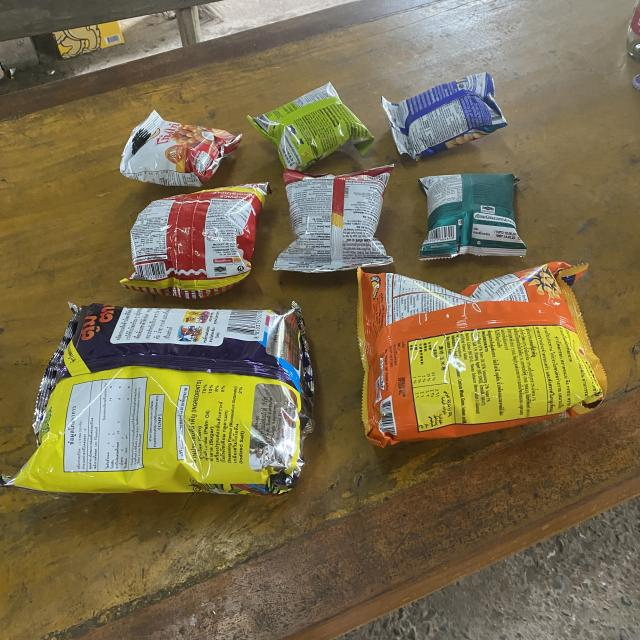plastik: (0, 304, 314, 495), (358, 262, 606, 446), (121, 182, 270, 299), (274, 165, 394, 272), (248, 82, 374, 170), (381, 72, 506, 159), (419, 174, 526, 260), (120, 110, 241, 186)
